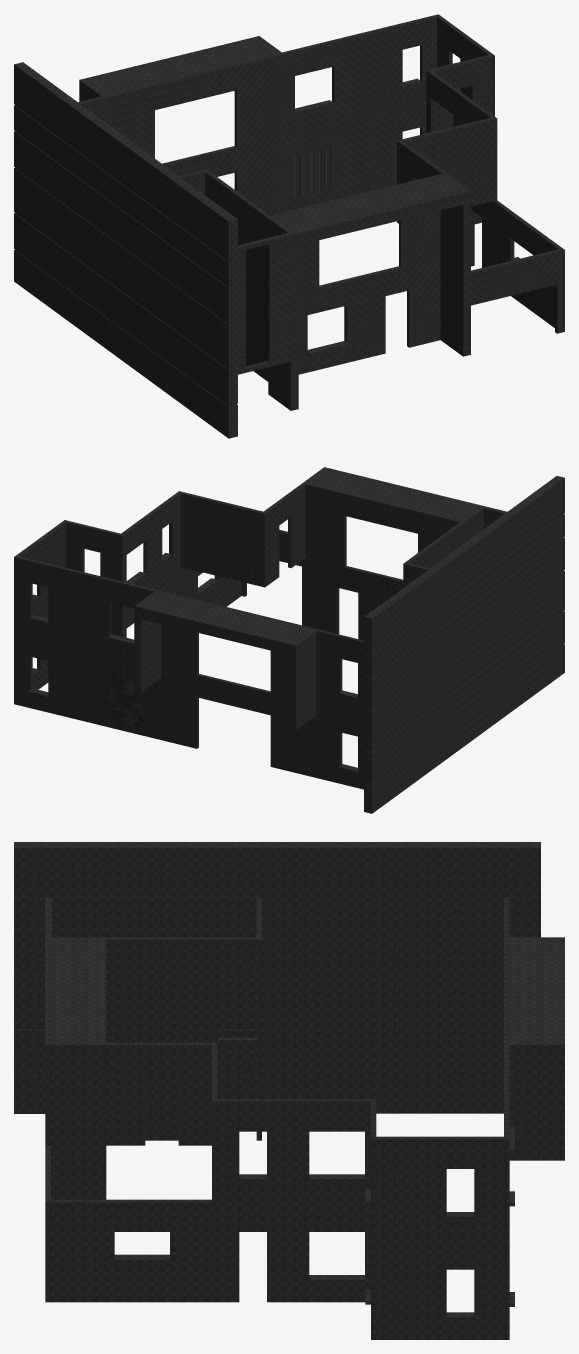
File: outer_walls.obj
3 renders of one model, top to bottom at view 1: azimuth 30°, elevation 25°; view 2: azimuth 150°, elevation 25°; view 3: azimuth 270°, elevation 25°, orthographic. The views are drawn at different scales.
Parts seen in each view (by area): view 1: outside; view 2: outside; view 3: outside.
Boxes of the visible parts, x1,y1,x2,y2 form: outside: (14, 14, 564, 438); outside: (14, 467, 564, 813); outside: (14, 842, 564, 1339).
Bounding box in the file's own units: 14.17 × 7.07 × 13.26.
Materials: 1 (1 with a texture image).
